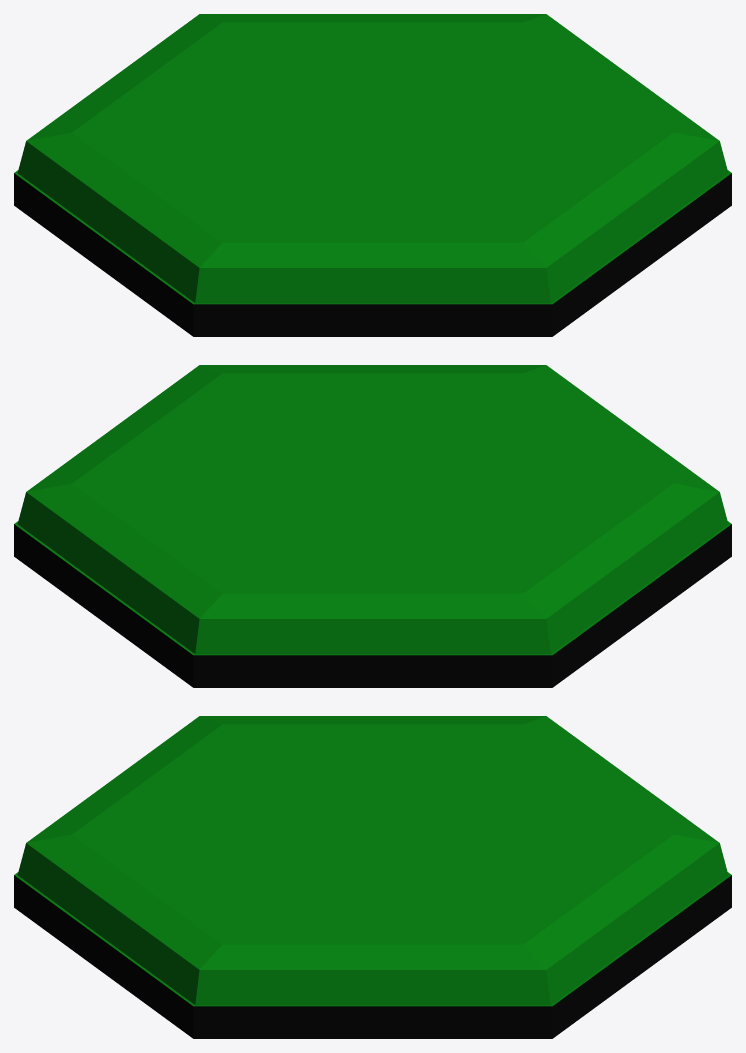
Rendered from HexagonPrefabSharperSlope.fbx.
The picture shows the model from 3 angles, top to bottom: view 1: azimuth 30°, elevation 25°; view 2: azimuth 150°, elevation 25°; view 3: azimuth 270°, elevation 25°; orthographic projection.
Parts seen in each view (by area): view 1: Hexagon; view 2: Hexagon; view 3: Hexagon.
Boxes of the visible parts, x1=… form: Hexagon: x1=14, y1=14, x2=731, y2=336; Hexagon: x1=14, y1=365, x2=731, y2=687; Hexagon: x1=14, y1=716, x2=731, y2=1038.
Size of the model in its own units: 175 by 22.66 by 202.
